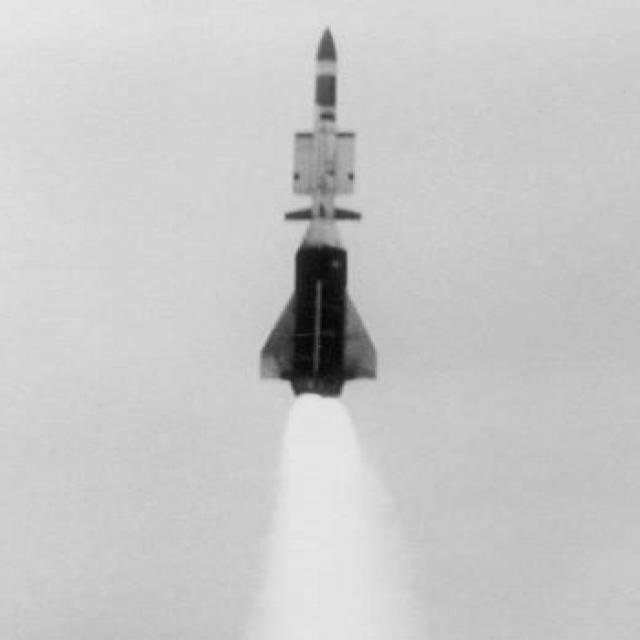missile: (260, 20, 378, 445), (308, 17, 340, 228)
